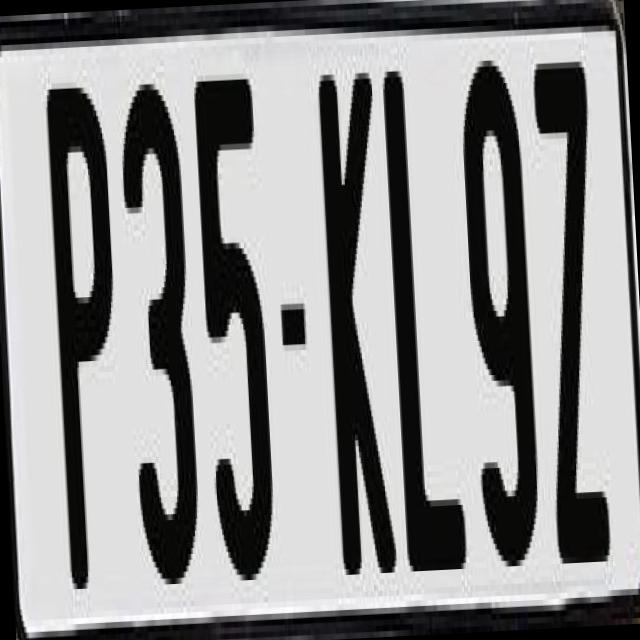3: (114, 77, 200, 603)
5: (191, 78, 282, 582)
9: (457, 59, 548, 603)
K: (318, 72, 399, 580)
L: (379, 68, 476, 608)
P: (44, 75, 130, 612)
Z: (531, 61, 611, 582)
